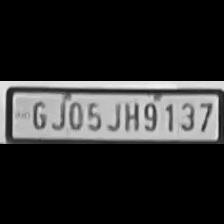0: (66, 97, 84, 129)
1: (160, 99, 176, 131)
3: (176, 98, 196, 132)
5: (84, 97, 104, 130)
7: (196, 97, 214, 131)
9: (140, 99, 158, 130)
G: (28, 96, 48, 128)
H: (120, 98, 140, 132)
J: (49, 97, 67, 129), (105, 98, 121, 132)
